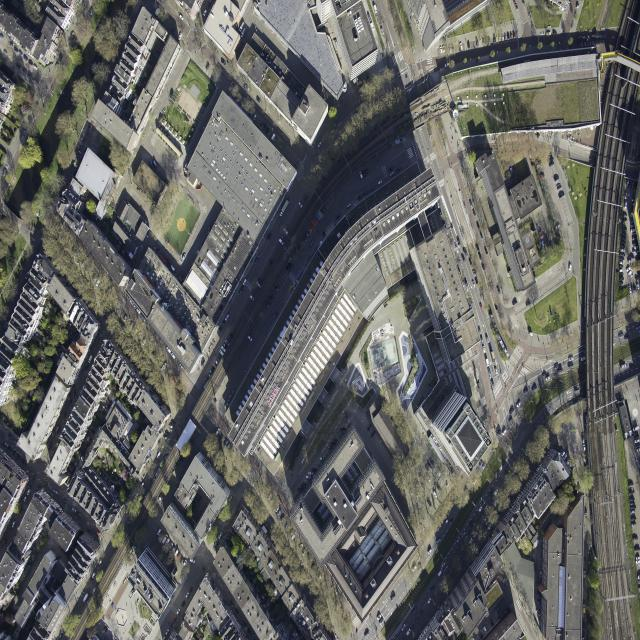large-vehicle: (279, 200, 289, 217)
small-vehicle: (490, 350, 496, 363), (240, 27, 247, 38), (239, 21, 245, 32), (162, 534, 168, 544), (161, 362, 167, 372), (83, 592, 89, 602), (2, 537, 7, 548), (334, 38, 339, 49), (437, 568, 443, 577), (155, 468, 161, 477), (155, 7, 161, 16), (373, 4, 378, 14), (75, 21, 80, 31), (88, 354, 93, 364), (219, 349, 225, 357), (224, 313, 230, 321), (291, 532, 297, 540), (376, 613, 382, 621), (390, 593, 396, 601), (315, 443, 321, 451), (516, 400, 522, 408), (165, 537, 170, 546), (2, 168, 7, 177), (178, 32, 183, 41), (169, 90, 174, 99), (370, 22, 375, 31), (463, 248, 468, 257), (464, 492, 469, 501), (559, 446, 564, 455), (157, 527, 162, 536), (485, 358, 490, 367), (469, 200, 474, 209), (163, 179, 169, 186), (283, 228, 289, 235), (364, 631, 370, 638), (535, 592, 541, 599), (547, 157, 554, 163), (509, 408, 515, 415), (140, 314, 146, 321), (559, 192, 565, 199), (25, 271, 30, 279), (47, 443, 52, 451), (16, 291, 21, 299), (199, 242, 204, 250), (58, 55, 63, 63), (54, 62, 59, 70), (26, 488, 31, 496), (171, 25, 176, 33), (206, 2, 211, 10), (71, 30, 76, 38), (215, 428, 220, 436), (224, 439, 229, 447), (226, 442, 231, 450), (221, 345, 226, 353), (168, 542, 173, 550), (218, 532, 223, 540), (166, 346, 171, 354), (11, 520, 16, 528), (266, 234, 271, 242), (239, 287, 244, 295), (277, 496, 282, 504), (461, 254, 466, 262), (536, 609, 541, 617), (483, 626, 488, 634), (448, 568, 453, 576), (95, 580, 100, 588), (496, 429, 501, 437), (502, 428, 507, 436), (135, 491, 140, 499), (95, 279, 100, 287), (84, 363, 89, 371), (406, 628, 411, 636), (13, 47, 19, 53), (16, 63, 22, 69), (207, 226, 211, 235), (27, 73, 33, 79), (568, 356, 574, 362), (568, 362, 574, 368), (557, 368, 563, 374), (620, 363, 626, 369), (388, 166, 394, 172), (459, 42, 463, 51), (389, 171, 395, 177), (525, 301, 531, 307), (73, 250, 77, 259), (18, 505, 22, 514), (488, 370, 492, 379), (484, 246, 488, 255), (633, 426, 639, 432), (68, 399, 73, 406), (160, 444, 165, 451), (23, 55, 28, 62), (179, 14, 184, 21), (205, 63, 210, 70), (221, 59, 226, 66), (429, 458, 434, 465), (211, 366, 216, 373), (221, 320, 226, 327), (225, 340, 230, 347), (170, 265, 175, 272), (170, 546, 175, 553), (176, 552, 181, 559), (188, 586, 193, 593), (179, 363, 184, 370), (279, 238, 284, 245), (258, 278, 263, 285), (256, 281, 261, 288), (265, 301, 270, 308), (273, 312, 278, 319), (275, 506, 280, 513), (280, 515, 285, 522), (302, 549, 307, 556), (298, 201, 303, 208), (427, 462, 432, 469), (367, 425, 372, 432), (371, 431, 376, 438), (379, 618, 384, 625), (473, 531, 478, 538), (412, 607, 417, 614), (494, 489, 499, 496), (494, 500, 499, 507), (430, 585, 435, 592), (401, 624, 406, 631), (421, 483, 426, 490), (448, 519, 453, 526), (469, 519, 474, 526), (427, 548, 432, 555), (436, 537, 441, 544), (412, 565, 417, 572), (563, 453, 568, 460), (482, 462, 487, 469), (503, 467, 508, 474), (532, 385, 537, 392), (433, 491, 438, 498), (81, 260, 86, 267), (98, 282, 103, 289), (106, 293, 111, 300), (156, 451, 161, 458), (628, 269, 633, 276), (89, 8, 94, 15), (128, 297, 133, 304), (98, 558, 103, 565), (92, 587, 97, 594), (132, 302, 137, 309), (55, 426, 59, 434), (310, 239, 314, 247), (263, 123, 267, 131), (271, 133, 275, 141), (295, 158, 299, 166), (368, 14, 372, 22), (359, 171, 363, 179), (455, 245, 459, 253), (445, 227, 449, 235), (472, 270, 476, 278), (472, 280, 476, 288), (461, 279, 465, 287), (457, 267, 461, 275), (476, 243, 480, 251), (477, 224, 481, 232), (490, 619, 494, 627), (530, 158, 534, 166), (478, 252, 482, 260), (94, 275, 98, 283), (409, 488, 413, 496), (569, 461, 573, 469), (571, 464, 575, 472), (410, 623, 414, 631), (180, 556, 184, 564), (486, 336, 490, 344), (494, 367, 498, 375), (481, 262, 485, 270), (142, 338, 146, 346), (436, 201, 440, 209), (439, 208, 443, 216), (472, 208, 476, 216), (515, 3, 519, 11), (13, 439, 18, 445), (22, 459, 27, 465), (18, 51, 23, 57), (76, 511, 81, 517), (215, 360, 220, 366), (209, 369, 214, 375), (574, 386, 579, 392), (223, 343, 228, 349), (190, 558, 195, 564), (71, 507, 76, 513), (245, 85, 250, 91), (269, 296, 274, 302), (285, 266, 290, 272), (288, 263, 293, 269), (247, 335, 252, 341), (63, 498, 68, 504), (357, 194, 363, 199), (52, 489, 57, 495), (335, 213, 340, 219), (321, 231, 326, 237), (512, 300, 517, 306), (549, 161, 554, 167), (555, 223, 560, 229), (468, 538, 473, 544), (635, 442, 640, 448), (33, 64, 38, 70), (523, 388, 528, 394), (545, 375, 550, 381), (554, 364, 559, 370), (626, 266, 631, 272), (633, 250, 638, 256), (634, 439, 640, 444), (634, 434, 640, 439), (629, 490, 635, 495), (136, 308, 141, 314), (557, 184, 562, 190), (566, 459, 571, 465), (72, 391, 76, 398), (62, 412, 66, 419), (182, 253, 186, 260), (73, 168, 77, 175), (79, 155, 83, 162), (59, 191, 63, 198), (203, 9, 207, 16), (23, 495, 27, 502), (176, 608, 180, 615), (201, 359, 205, 366), (427, 475, 431, 482), (229, 495, 233, 502), (175, 549, 179, 556), (183, 559, 187, 566), (185, 592, 189, 599), (171, 352, 175, 359), (59, 632, 63, 639), (255, 257, 259, 264), (243, 278, 247, 285), (250, 294, 254, 301), (381, 28, 385, 35), (299, 543, 303, 550), (277, 509, 281, 516), (285, 521, 289, 528), (268, 494, 272, 501), (250, 631, 254, 638), (253, 114, 257, 121), (266, 127, 270, 134), (318, 141, 322, 148), (362, 170, 366, 177), (169, 621, 173, 628), (172, 615, 176, 622), (457, 238, 461, 245), (442, 220, 446, 227), (469, 305, 473, 312), (489, 489, 493, 496), (537, 600, 541, 607), (497, 287, 501, 294), (494, 304, 498, 311), (415, 616, 419, 623), (437, 486, 441, 493), (444, 518, 448, 525), (473, 479, 477, 486), (405, 469, 409, 476), (415, 480, 419, 487), (635, 275, 639, 282), (320, 438, 324, 445), (479, 461, 483, 468), (555, 239, 559, 246), (482, 346, 486, 353), (130, 322, 134, 329), (92, 571, 96, 578), (158, 115, 162, 122), (123, 315, 127, 322), (71, 246, 74, 255), (493, 35, 496, 44), (4, 442, 9, 447), (8, 435, 13, 440), (28, 61, 33, 66), (216, 357, 221, 362), (581, 356, 586, 361), (630, 365, 635, 370), (302, 196, 307, 201), (363, 190, 368, 195), (369, 186, 374, 191), (364, 75, 369, 80), (540, 174, 545, 179), (554, 176, 559, 181), (542, 372, 547, 377), (95, 531, 100, 536), (219, 435, 223, 441), (18, 454, 22, 460), (190, 261, 194, 267), (168, 447, 172, 453), (13, 450, 17, 456), (208, 373, 212, 379), (218, 327, 222, 333), (229, 333, 233, 339), (214, 540, 218, 546), (181, 601, 185, 607), (175, 435, 179, 441), (257, 97, 261, 103), (269, 259, 273, 265), (281, 235, 285, 241), (275, 285, 279, 291), (300, 482, 306, 486), (442, 46, 445, 54), (165, 629, 169, 635), (70, 176, 74, 182), (467, 41, 470, 49), (440, 46, 443, 54), (561, 451, 565, 457), (629, 285, 632, 293), (484, 516, 488, 522), (427, 598, 431, 604), (478, 506, 482, 512), (480, 522, 484, 528), (488, 524, 492, 530), (505, 579, 508, 587), (479, 632, 483, 638), (456, 537, 460, 543), (425, 465, 429, 471), (427, 500, 431, 506), (3, 50, 7, 56), (619, 285, 623, 291), (619, 253, 625, 257), (508, 468, 512, 474), (503, 462, 507, 468), (491, 380, 495, 386), (509, 417, 513, 423), (141, 482, 145, 488), (152, 477, 156, 483), (582, 436, 585, 444), (631, 229, 637, 233), (147, 487, 151, 493), (624, 201, 627, 209), (507, 32, 510, 40), (584, 465, 587, 473), (634, 547, 640, 551), (83, 146, 87, 152), (68, 181, 71, 188), (637, 283, 640, 290), (469, 259, 472, 266), (449, 46, 452, 53), (475, 277, 478, 284), (465, 280, 468, 287), (501, 572, 504, 579), (480, 232, 483, 239), (569, 264, 572, 271), (420, 609, 423, 616), (576, 2, 579, 9), (481, 337, 484, 344), (482, 38, 485, 45), (513, 31, 516, 38), (501, 34, 504, 41), (626, 180, 629, 187), (629, 181, 632, 188), (9, 446, 13, 451), (9, 43, 13, 48), (23, 69, 27, 74), (624, 336, 629, 340), (202, 384, 206, 389), (306, 475, 311, 479), (347, 203, 351, 208), (378, 180, 382, 185), (445, 63, 450, 67), (619, 334, 624, 338), (178, 459, 183, 463), (619, 277, 624, 281), (630, 255, 635, 259), (629, 482, 634, 486), (620, 244, 625, 248), (620, 248, 625, 252), (157, 497, 162, 501), (623, 218, 627, 223), (623, 213, 627, 218), (132, 545, 137, 549), (633, 536, 638, 540), (172, 441, 175, 447), (56, 442, 59, 448), (89, 124, 92, 130), (308, 472, 314, 475), (365, 168, 368, 174), (476, 40, 479, 46), (480, 304, 483, 310), (418, 565, 421, 571), (478, 329, 481, 335), (630, 506, 636, 509), (631, 286, 634, 292), (630, 272, 633, 278), (632, 237, 638, 240), (632, 242, 638, 245), (510, 32, 513, 38), (504, 34, 507, 40), (498, 35, 501, 41), (632, 182, 635, 188), (583, 604, 585, 613), (165, 432, 169, 436), (171, 421, 175, 425), (345, 413, 349, 417), (397, 167, 401, 171), (619, 268, 623, 272), (628, 259, 632, 263), (631, 220, 635, 224), (631, 224, 635, 228), (631, 201, 635, 205), (553, 31, 557, 35), (632, 195, 636, 199), (632, 523, 636, 527), (213, 398, 216, 403), (168, 425, 173, 428), (298, 487, 303, 490), (330, 442, 335, 445), (319, 457, 324, 460), (631, 206, 634, 211), (619, 257, 624, 260), (619, 261, 624, 264), (630, 498, 635, 501), (630, 502, 635, 505), (634, 246, 639, 249), (621, 237, 626, 240), (620, 241, 625, 244), (622, 227, 627, 230), (546, 32, 551, 35), (631, 517, 636, 520), (585, 509, 587, 516), (488, 37, 490, 44), (583, 444, 585, 451), (625, 192, 627, 199), (584, 571, 586, 578), (583, 622, 585, 629), (582, 632, 584, 639), (634, 285, 636, 291), (163, 436, 167, 439), (312, 468, 316, 471), (341, 428, 345, 431), (333, 439, 337, 442), (540, 571, 542, 577), (619, 264, 623, 267), (619, 273, 623, 276), (619, 282, 623, 285), (631, 510, 635, 513), (622, 232, 626, 235), (635, 183, 637, 189), (327, 446, 332, 448)
